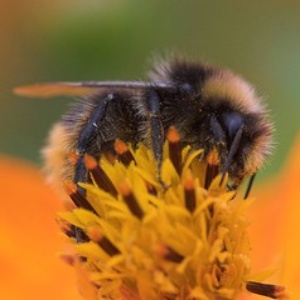bee: (19, 49, 279, 226)
